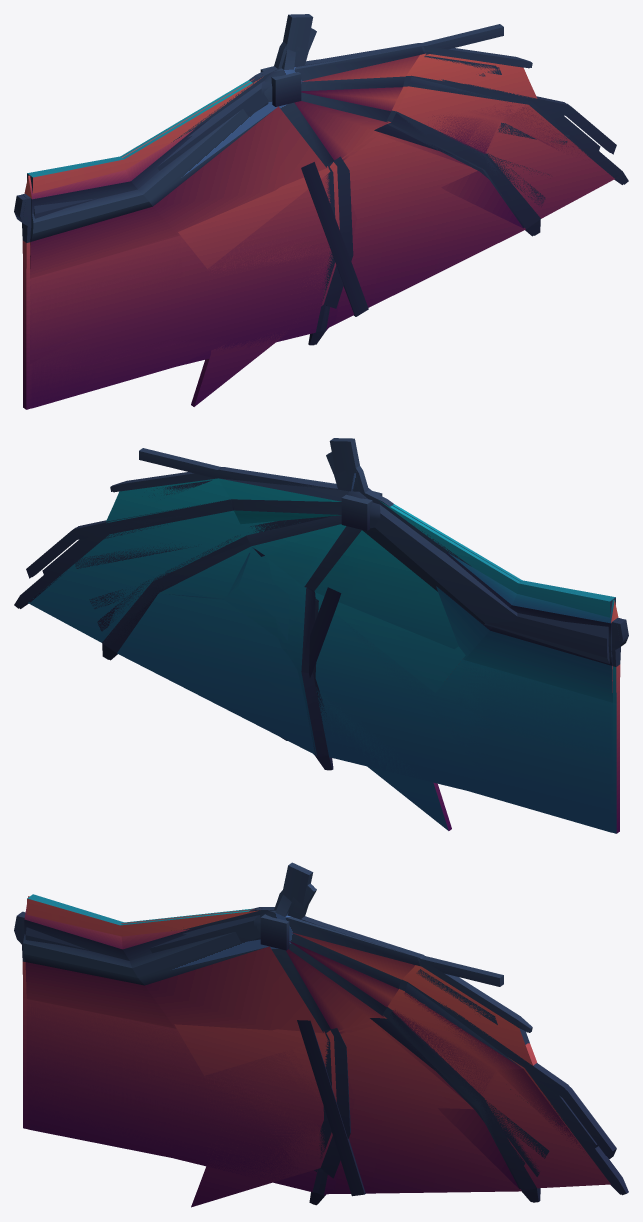
The model's file is WingSteps.fbx.
3 views of the same model, one above another, from view 1: azimuth 30°, elevation 25°; view 2: azimuth 150°, elevation 25°; view 3: azimuth 330°, elevation 25° (orthographic).
Parts seen in each view (by area): view 1: Number6, Final, Number9, Number5half, Number5, Number3, Number4, number1; view 2: Number6, Number9, Final, Number5half, Number5, Number3, Number4, number1; view 3: Number6, Final, Number5half, Number9, Number5, Number3, Number4, number1.
Boxes of the visible parts, bbox=[...] form: Number6: bbox=[27, 49, 621, 408]; Final: bbox=[24, 46, 623, 363]; Number9: bbox=[32, 43, 628, 353]; Number5half: bbox=[22, 41, 600, 409]; Number5: bbox=[14, 28, 613, 406]; Number3: bbox=[283, 14, 569, 316]; Number4: bbox=[23, 29, 616, 308]; number1: bbox=[260, 66, 301, 106]; Number6: bbox=[20, 470, 615, 832]; Number9: bbox=[14, 467, 609, 769]; Final: bbox=[19, 470, 618, 787]; Number5half: bbox=[42, 465, 620, 833]; Number5: bbox=[31, 452, 628, 830]; Number3: bbox=[74, 438, 360, 740]; Number4: bbox=[26, 453, 619, 651]; number1: bbox=[341, 491, 382, 530]; Number6: bbox=[27, 894, 616, 1194]; Final: bbox=[23, 894, 620, 1204]; Number5half: bbox=[21, 890, 598, 1171]; Number9: bbox=[25, 898, 628, 1205]; Number5: bbox=[14, 883, 608, 1207]; Number3: bbox=[281, 862, 565, 1196]; Number4: bbox=[17, 887, 616, 1178]; number1: bbox=[260, 914, 289, 950].
Bounding box in the file's own units: 23.74 × 13.6 × 1.
